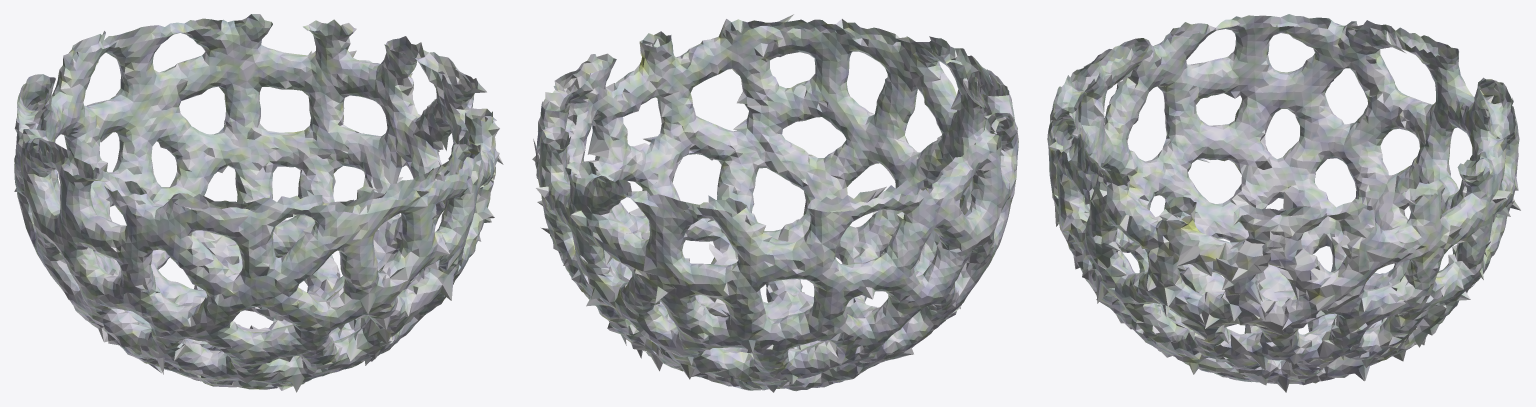
The picture shows the model from 3 angles, left to right: view 1: azimuth 30°, elevation 25°; view 2: azimuth 150°, elevation 25°; view 3: azimuth 270°, elevation 25°; orthographic projection. The views are drawn at different scales.
Bounding box in the file's own units: 1.99 × 1.19 × 2.
